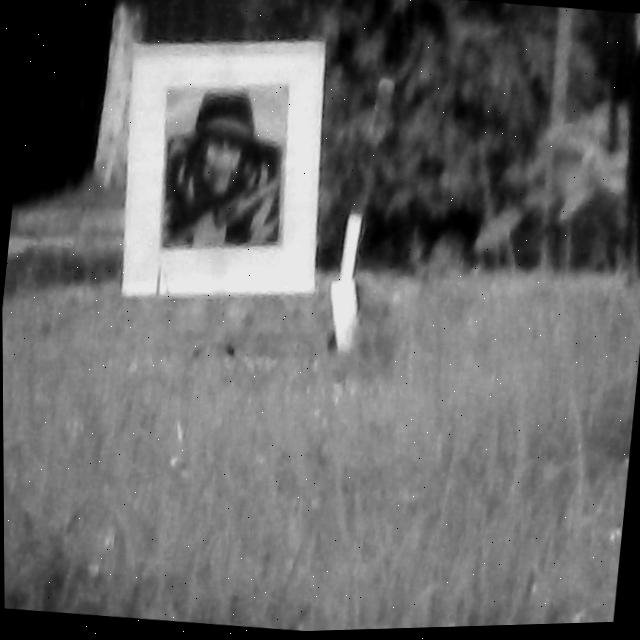bia: (161, 84, 288, 247)
